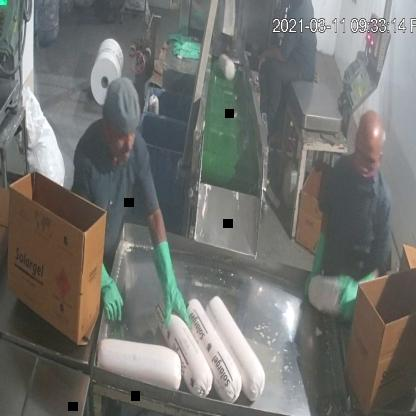glove: (154, 232, 192, 344)
no_glove: (256, 43, 290, 76)
